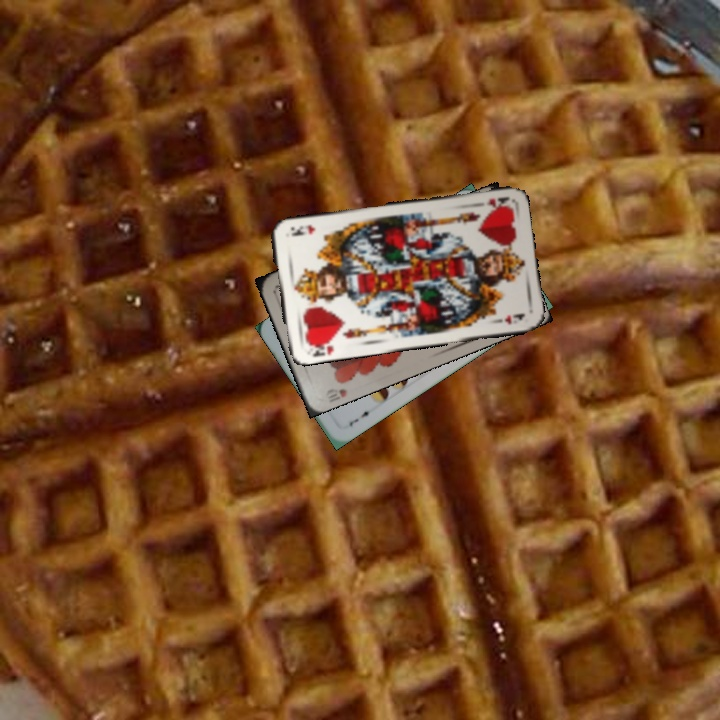E7: (345, 406, 376, 429)
H10: (320, 384, 349, 401)
HK: (471, 192, 512, 210), (304, 336, 336, 359)
